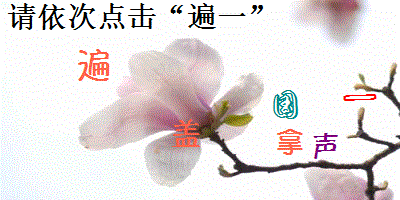result: (186, 1, 247, 30)
text: (75, 48, 112, 83), (170, 118, 205, 151), (274, 126, 303, 160), (270, 90, 300, 121), (312, 130, 339, 161), (342, 90, 378, 109)
